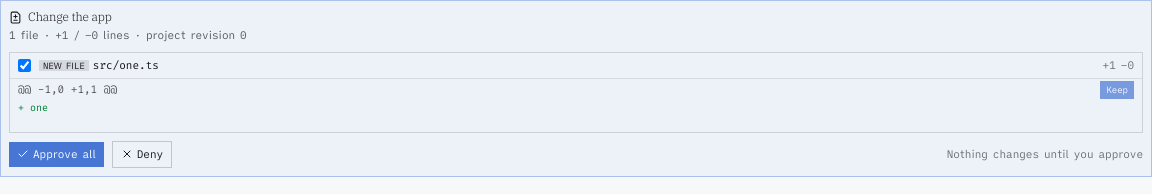
Test case: ApprovalCard › cannot approve when nothing is selected
Click the checkbox labelled "src/one.ts".
click(24, 65)  # box [18,59,31,72]
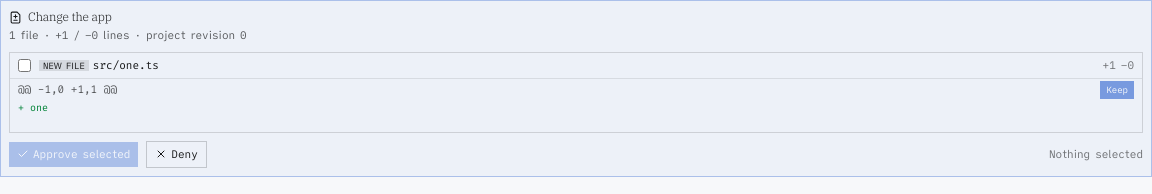
Expected: the button "Approve selected" is disabled, [9,142,138,166]
Expected: the text "Nothing selected" is shown, [1049,146,1143,162]
